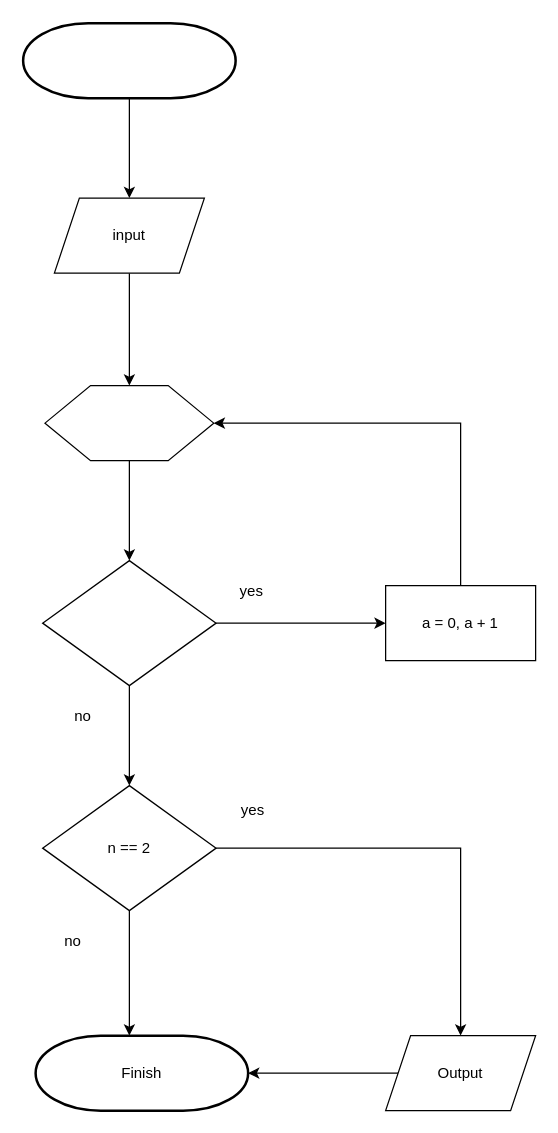
This 558x1133 diagram has some shape labels left out. Each missing label, with the centre of its shape:
"i = 1 to n" belongs at (129,422).
"n% 1 == 0" belongs at (128,622).
"START" belongs at (128,60).
